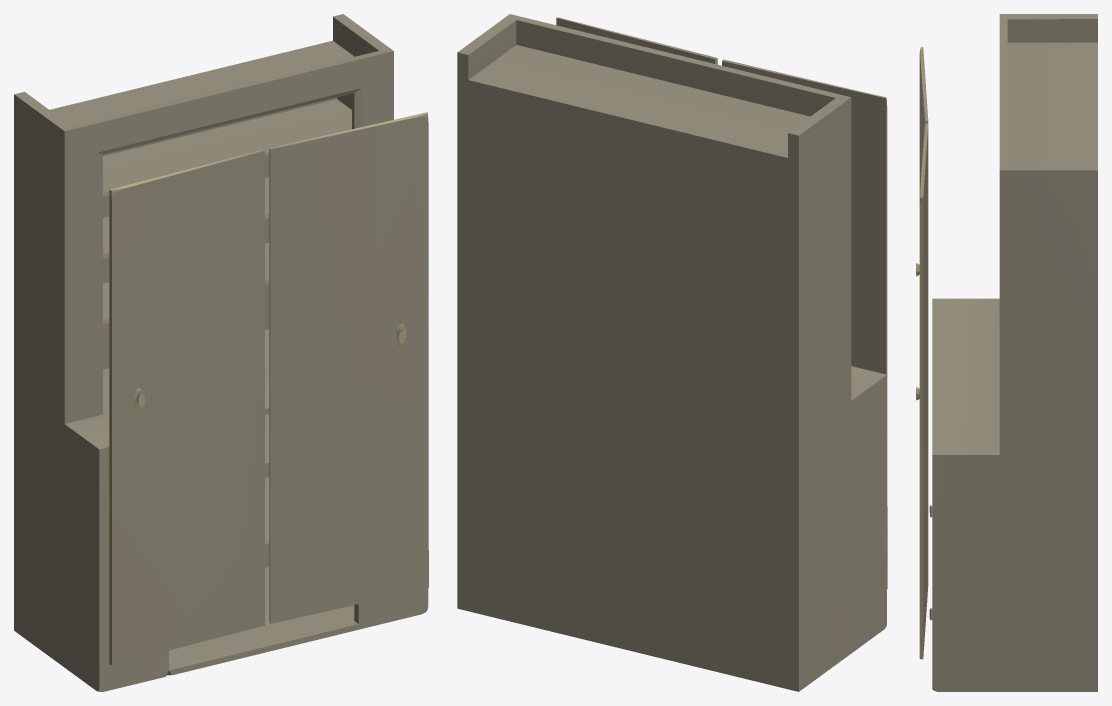
Rendered from wardrobe.glb.
3 views of the same model, side by side, from view 1: azimuth 30°, elevation 25°; view 2: azimuth 150°, elevation 25°; view 3: azimuth 270°, elevation 25° (orthographic). The views are drawn at different scales.
Parts seen in each view (by area): view 1: wardrobe; view 2: wardrobe; view 3: wardrobe.
Part boxes in pixels (left/top/right/bottom): wardrobe: left=14, top=14, right=428, bottom=691; wardrobe: left=457, top=14, right=887, bottom=691; wardrobe: left=916, top=14, right=1097, bottom=691.
Bounding box in the file's own units: 1.22 × 1.9 × 0.6.
